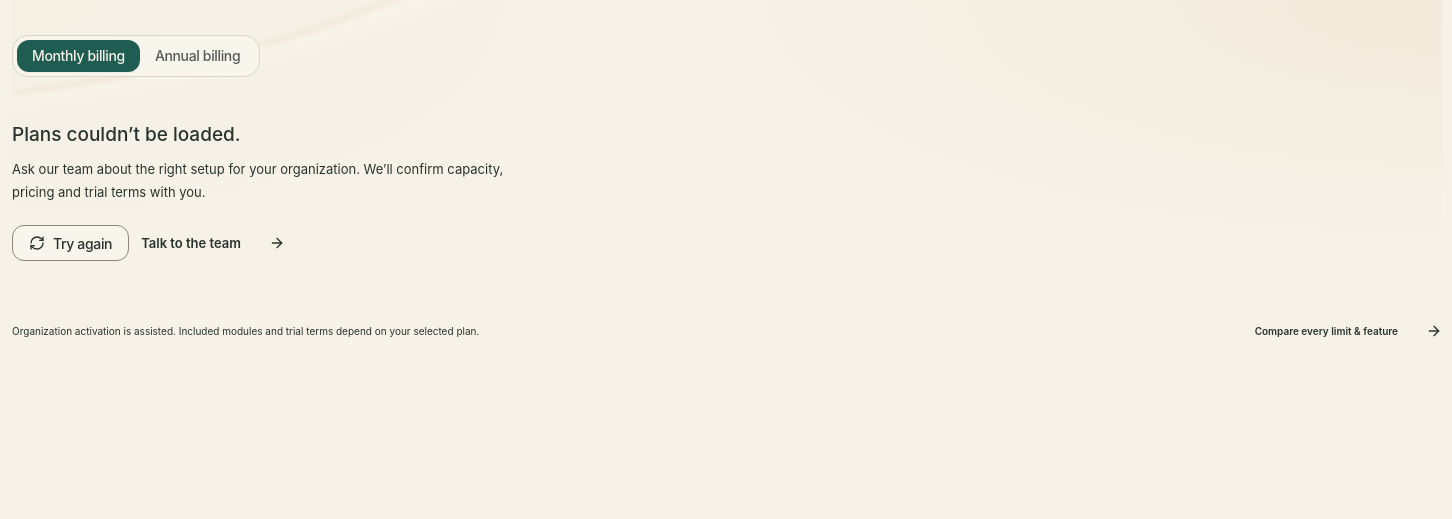
Scenario: Homepage pricing from the public plan source › shows an honest failure and recovers through the existing source without inventing prices
Expected: the heading "Plans couldn’t be loaded." is shown, x1=12 y1=123 x2=241 y2=146
Click the button "Try again" at (71, 243), box x1=12 y1=225 x2=129 y2=261
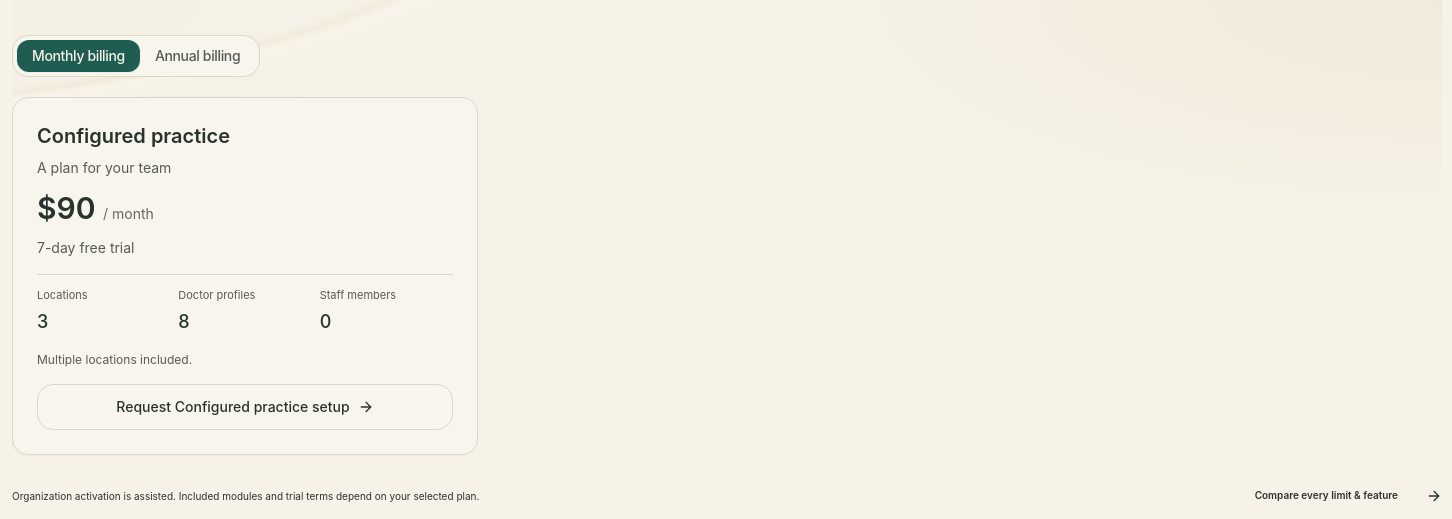
Result: the text "$90" is shown at x1=37 y1=190 x2=96 y2=226
